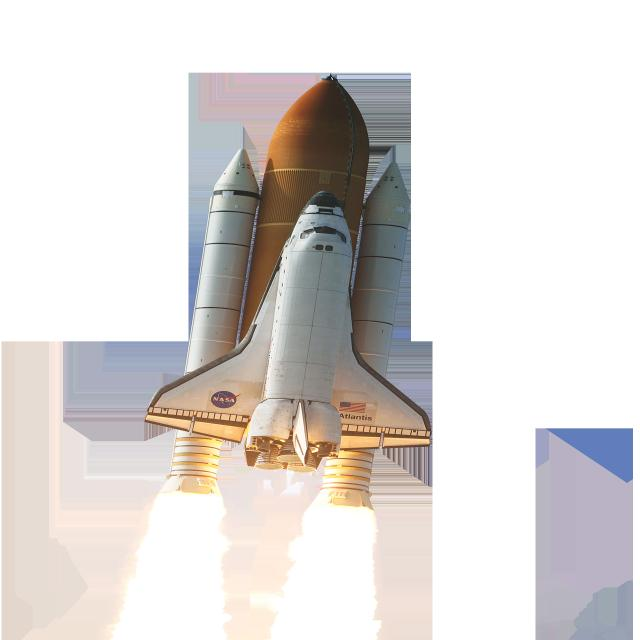rocket: (105, 174, 466, 481)
